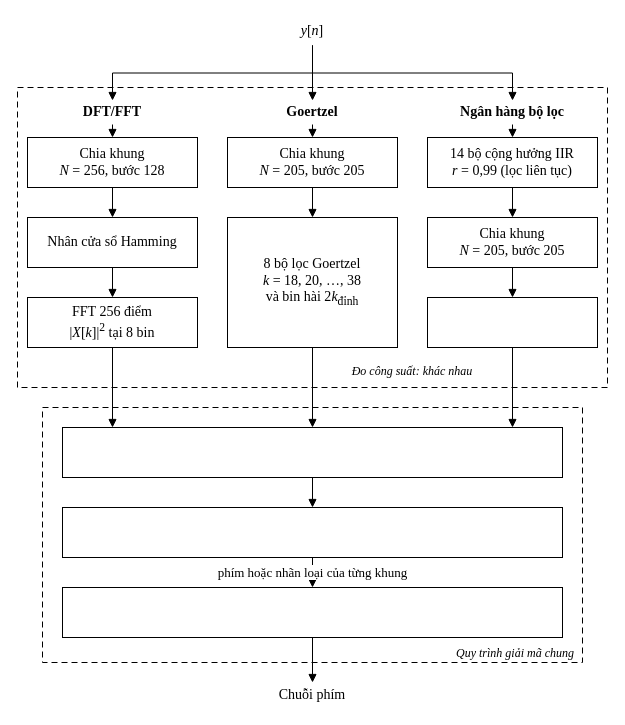
This 625x725 diagram has some shape labels left out. Each missing label, with the centre of its shape:
"Chuẩn hoá: E j = P j / P khung , j = 1…8" goes at [312,452].
"Gộp khung, dải ≥ 2 khung (dtmf_debounce)" goes at [312,612].
"Năng lượng đầu ra Σ y j 2 [ n ] trên khung" goes at [512,322].
"Tiêu chí chấp nhận khung, 5 điều kiện (dtmf_decide)" goes at [312,532].
